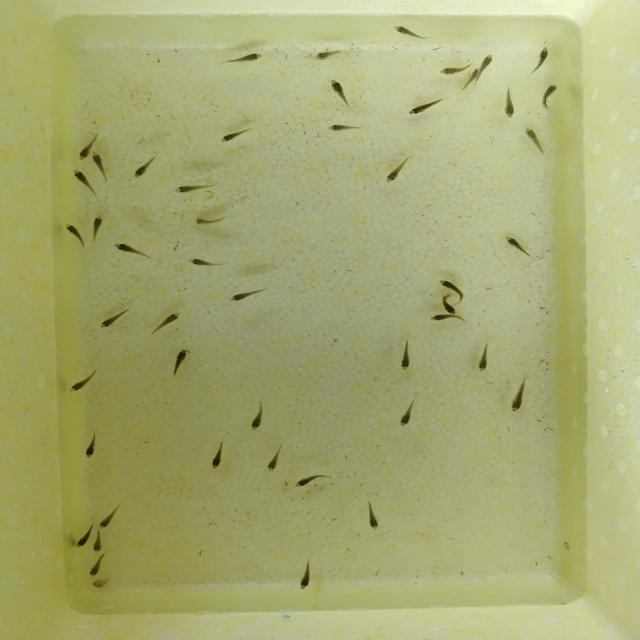fingerling: (169, 174, 220, 198), (167, 342, 195, 379), (382, 156, 413, 188), (360, 502, 390, 535), (502, 234, 534, 262), (522, 125, 547, 160), (395, 340, 421, 373), (206, 439, 226, 481), (308, 47, 351, 66), (151, 309, 188, 331), (471, 340, 494, 375), (70, 165, 98, 193), (72, 366, 102, 392), (62, 220, 86, 252), (389, 24, 429, 43), (216, 52, 279, 64), (94, 310, 131, 330), (247, 399, 268, 434), (128, 158, 158, 182), (112, 244, 152, 262), (287, 472, 333, 487), (398, 400, 421, 429), (405, 99, 444, 116), (510, 377, 526, 418), (439, 277, 470, 298), (215, 129, 251, 147), (298, 557, 314, 597), (538, 83, 563, 108), (91, 146, 107, 185), (228, 288, 264, 305), (534, 46, 553, 77), (328, 77, 351, 102), (325, 120, 366, 134), (87, 212, 106, 242), (83, 428, 102, 458), (192, 212, 228, 227), (268, 440, 283, 476), (98, 504, 119, 529), (188, 256, 226, 268), (86, 554, 105, 578), (504, 86, 516, 123), (478, 52, 496, 76), (441, 62, 467, 78), (429, 316, 470, 326), (74, 524, 91, 548), (91, 576, 114, 593), (78, 136, 90, 164), (438, 298, 460, 313), (463, 69, 477, 92), (92, 530, 101, 554)
